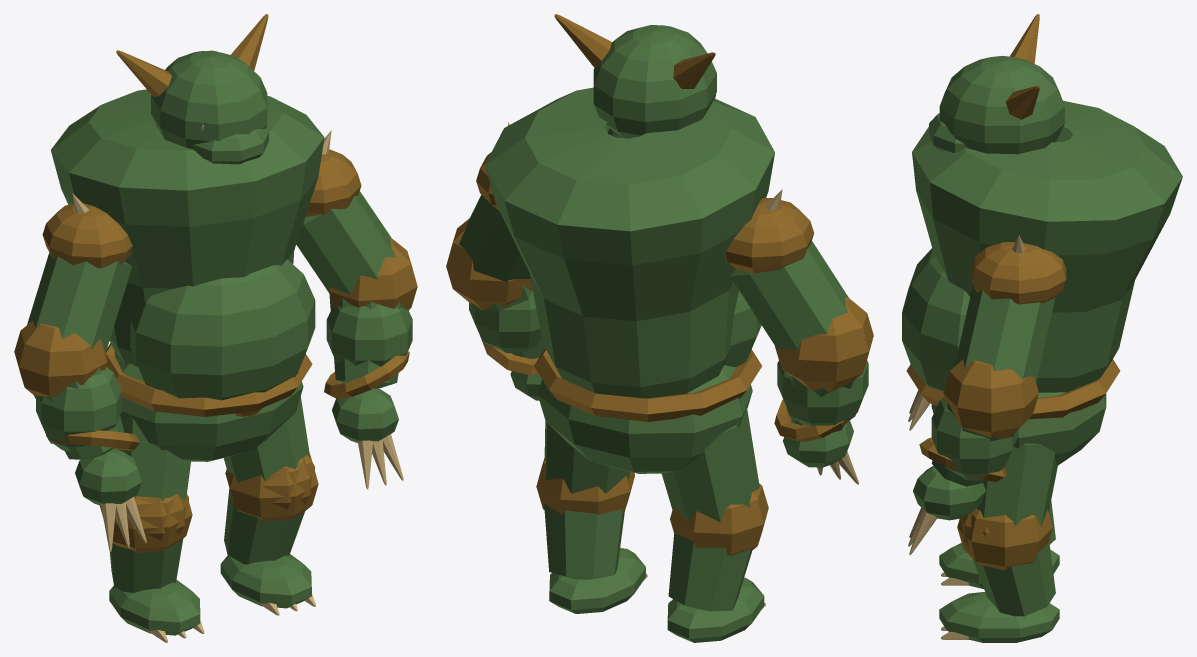
The model's file is swamp_warden.obj.
The picture shows the model from 3 angles, left to right: view 1: azimuth 30°, elevation 25°; view 2: azimuth 150°, elevation 25°; view 3: azimuth 270°, elevation 25°; orthographic projection. The views are drawn at different scales.
Visible parts, largest first — view 1: torso, gut, head, hips, arm_upper_L, arm_upper_R, arm_joint_L, forearm_mass_R, forearm_mass_L, pauldron_L, belt, foot_R (+20 smaller); view 2: torso, head, hips, arm_upper_L, leg_upper_L, belt, arm_joint_L, leg_lower_R, leg_lower_L, pauldron_L, leg_joint_L, foot_R (+14 smaller); view 3: torso, head, gut, arm_upper_R, arm_joint_R, pauldron_R, leg_upper_R, foot_R, leg_joint_R, leg_lower_R, forearm_mass_R, hips (+9 smaller).
Boxes of the visible parts, <box> form: torso: <box>51,89,324,366</box>; gut: <box>130,259,315,400</box>; head: <box>151,50,267,148</box>; hips: <box>114,351,303,461</box>; arm_upper_L: <box>27,252,132,353</box>; arm_upper_R: <box>296,191,396,294</box>; arm_joint_L: <box>14,321,107,396</box>; forearm_mass_R: <box>326,304,412,366</box>; forearm_mass_L: <box>36,367,121,451</box>; pauldron_L: <box>42,203,132,268</box>; belt: <box>105,343,312,416</box>; foot_R: <box>220,554,311,608</box>; torso: <box>485,87,774,398</box>; head: <box>593,25,716,138</box>; hips: <box>537,365,752,473</box>; arm_upper_L: <box>730,241,848,349</box>; leg_upper_L: <box>662,408,759,522</box>; belt: <box>534,348,761,421</box>; arm_joint_L: <box>775,296,873,391</box>; leg_lower_R: <box>544,503,624,579</box>; leg_lower_L: <box>668,533,751,611</box>; pauldron_L: <box>725,198,813,273</box>; leg_joint_L: <box>670,483,768,556</box>; foot_R: <box>549,548,645,613</box>; torso: <box>912,100,1182,392</box>; head: <box>939,55,1064,154</box>; gut: <box>902,248,970,391</box>; arm_upper_R: <box>954,284,1055,382</box>; arm_joint_R: <box>943,359,1038,439</box>; pauldron_R: <box>971,242,1066,304</box>; leg_upper_R: <box>976,443,1057,526</box>; foot_R: <box>939,592,1059,642</box>; leg_joint_R: <box>957,509,1052,570</box>; leg_lower_R: <box>972,541,1055,616</box>; forearm_mass_R: <box>931,397,1017,480</box>; hips: <box>931,392,1106,465</box>.
Size of the model in its own units: 3.14 by 4.3 by 1.95.
